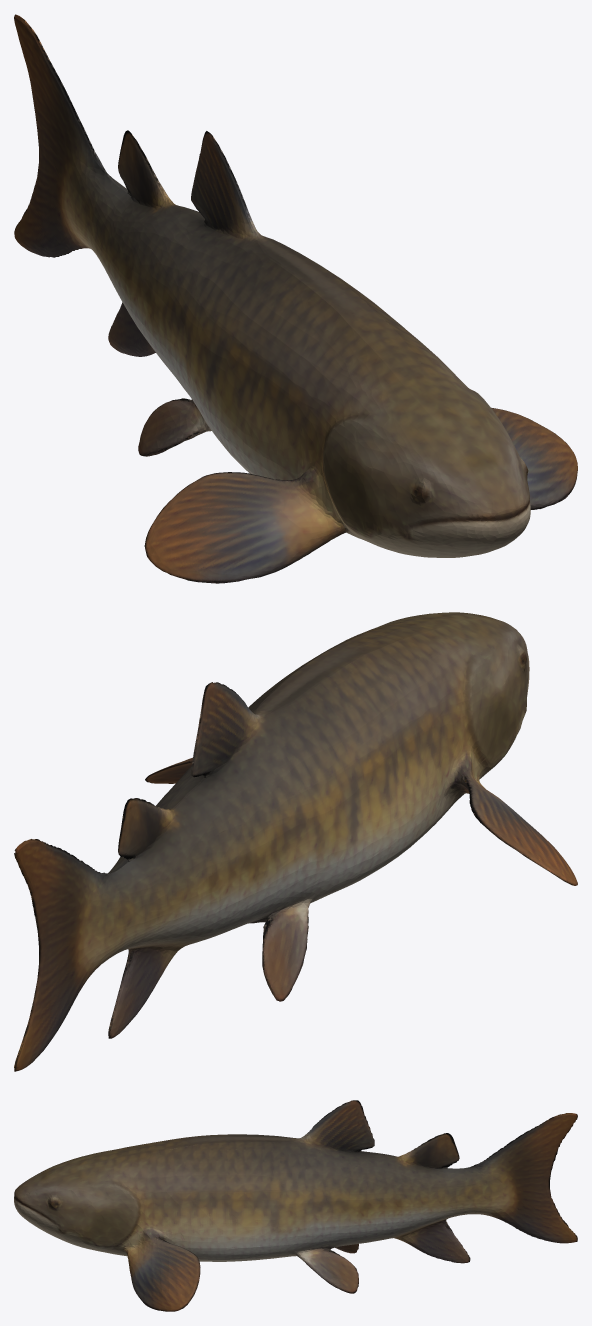
3 renders of one model, top to bottom at view 1: azimuth 30°, elevation 25°; view 2: azimuth 150°, elevation 25°; view 3: azimuth 270°, elevation 25°, orthographic. The views are drawn at different scales.
Visible parts, largest first — view 1: world; view 2: world; view 3: world.
Part boxes in pixels (box(x1,y1,x2,y2)): world: box(14, 14, 577, 583); world: box(14, 612, 577, 1071); world: box(14, 1100, 577, 1311).
Size of the model in its own units: 0.4994 by 0.3387 by 0.9998.
Materials: 1 (1 with a texture image).
